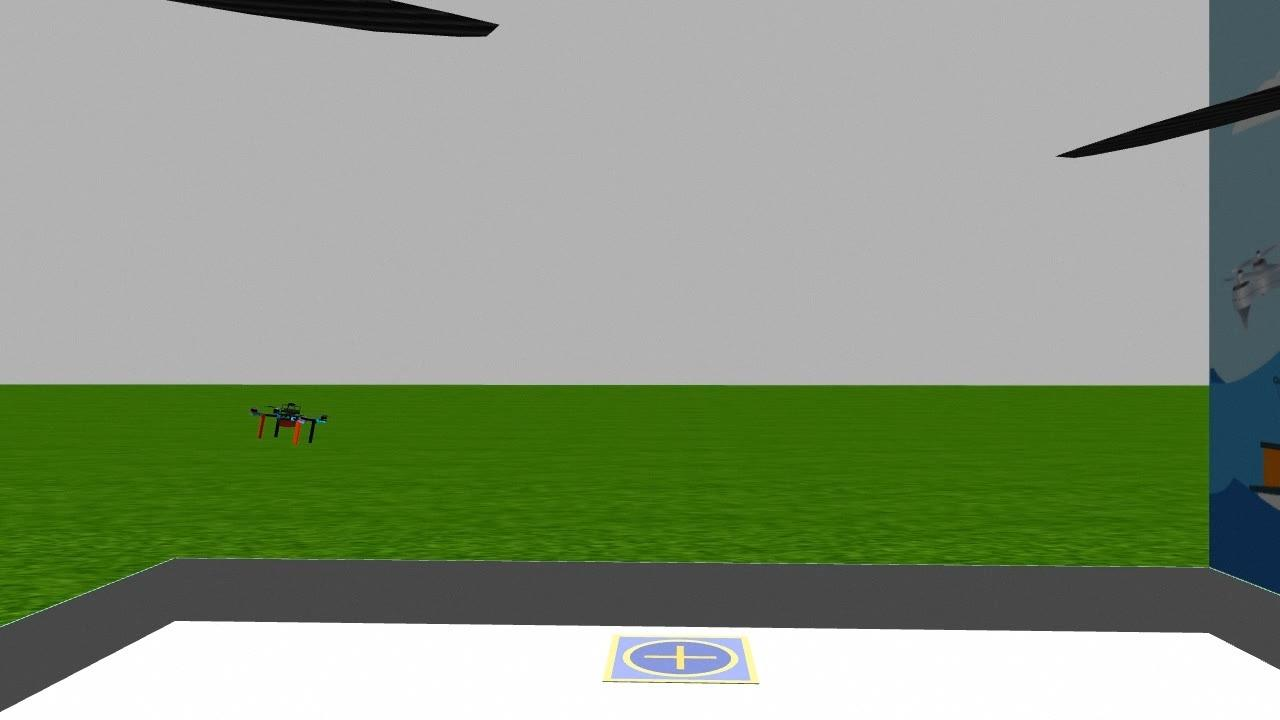UAV: (246, 387, 336, 446)
